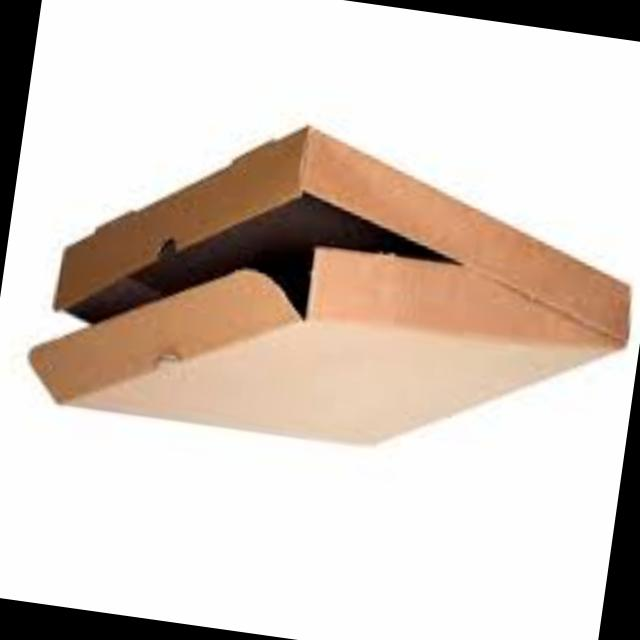cardboard paper: (26, 134, 624, 448)
